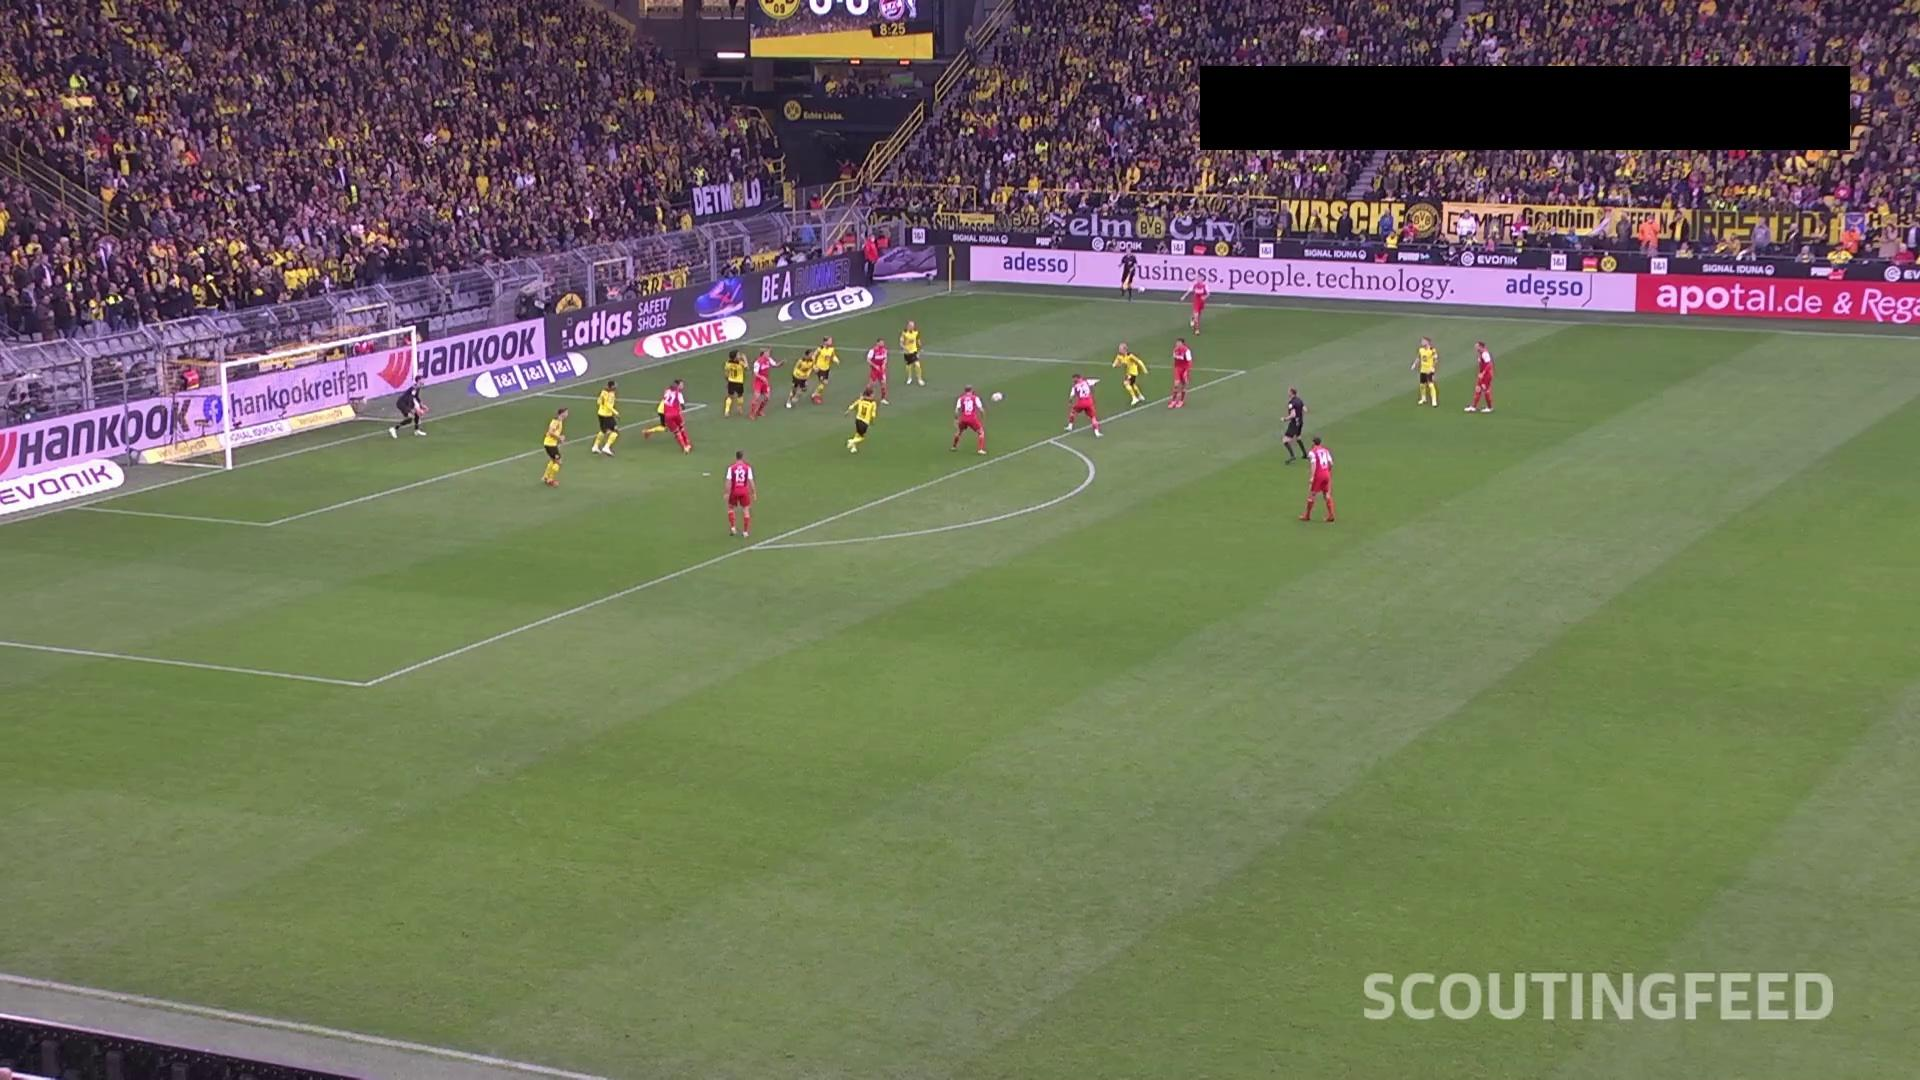Location-of-ball: (984, 386, 1010, 406)
